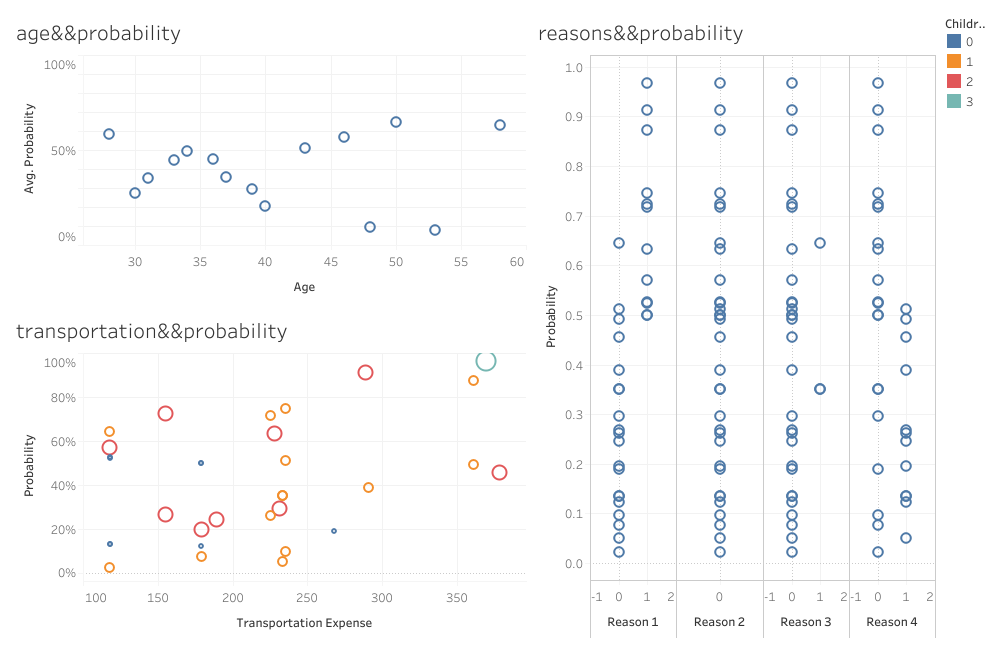

The dashboard page shown, as its layout file describes it:
{"tool":"tableau","page":{"name":"Dashboard 1","canvas":[1000,1000],"units":"permille","ordinal":0},"visuals":[{"type":"worksheet","title":"age&&probability","mark":"Shape","rows":["probability"],"cols":["age"],"box":[8,12.3,522,458.5]},{"type":"worksheet","title":"reasons&&probability","mark":"Shape","rows":["probability"],"cols":["reason_1","reason_2","reason_3","reason_4"],"box":[530,12.3,410,975.4]},{"type":"legend","title":"transportation&&probability","param":"[federated.1mr61mf0zf4sb2188783y146etht].[none:children:ok]","box":[940,12.3,52,163.1]},{"type":"worksheet","title":"transportation&&probability","mark":"Shape","rows":["probability"],"cols":["transportation_expense"],"box":[8,470.8,522,516.9]}]}

Visuals, with their boxes on the dashboard's canvas, which has no fixed pixel size, in thousandths of its width and height (x1, y1, x2, y2). These are canvas units, not pixel positions in the 999x649 screenshot, which may show the page scaled, cropped or inside an application window:
"age&&probability" worksheet (Shape marks): x1=8 y1=12 x2=530 y2=471
"reasons&&probability" worksheet (Shape marks): x1=530 y1=12 x2=940 y2=988
"transportation&&probability" legend: x1=940 y1=12 x2=992 y2=175
"transportation&&probability" worksheet (Shape marks): x1=8 y1=471 x2=530 y2=988
